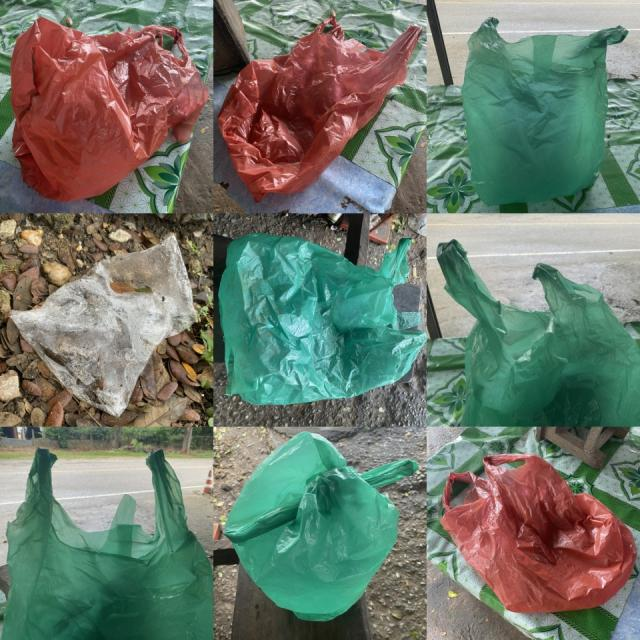Single-layer Plastic: (1, 450, 212, 639), (218, 11, 422, 202), (438, 240, 640, 426), (225, 432, 418, 621), (11, 18, 209, 201), (219, 234, 426, 405), (11, 235, 196, 416), (462, 18, 628, 205), (440, 454, 636, 612)
